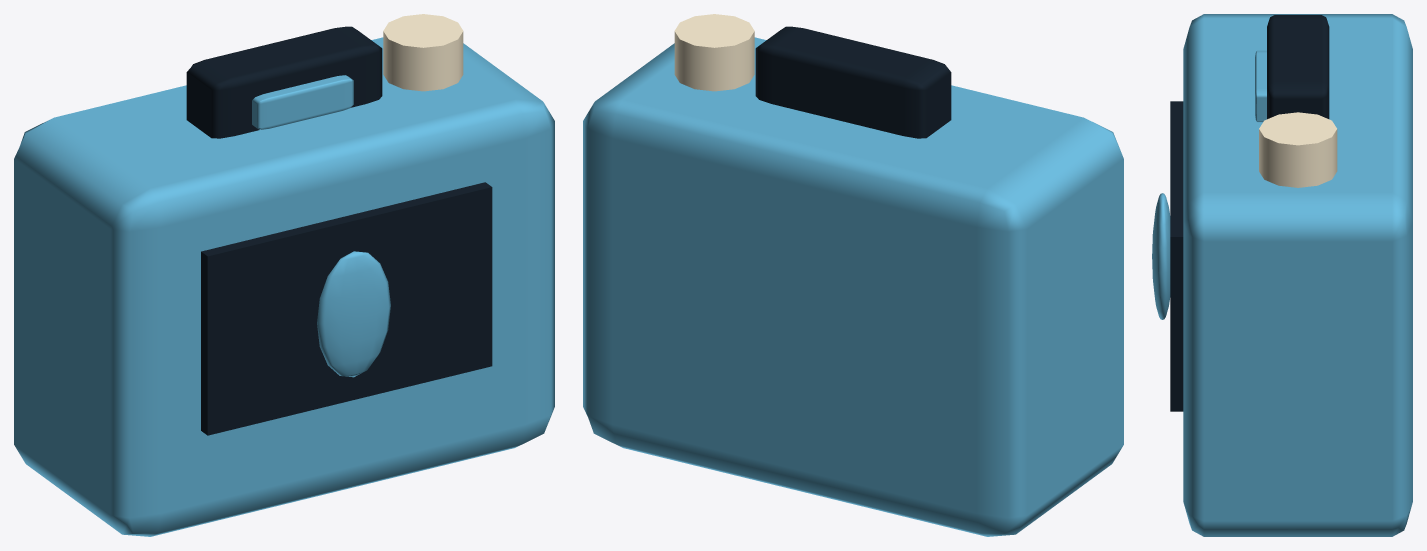
Rendered from item-water.glb.
3 views of the same model, side by side, from view 1: azimuth 30°, elevation 25°; view 2: azimuth 150°, elevation 25°; view 3: azimuth 270°, elevation 25° (orthographic). The views are drawn at different scales.
Visible parts, largest first — view 1: package, label, carry-handle, drop, water-cap, handle-opening; view 2: package, carry-handle, water-cap; view 3: package, carry-handle, water-cap, label, drop, handle-opening.
Part boxes in pixels (x1=…): package: x1=14, y1=37, x2=554, y2=536; label: x1=201, y1=182, x2=492, y2=435; carry-handle: x1=186, y1=26, x2=382, y2=138; drop: x1=317, y1=251, x2=390, y2=377; water-cap: x1=383, y1=14, x2=463, y2=91; handle-opening: x1=252, y1=75, x2=353, y2=129; package: x1=583, y1=37, x2=1123, y2=536; carry-handle: x1=755, y1=26, x2=951, y2=138; water-cap: x1=674, y1=14, x2=754, y2=91; package: x1=1183, y1=14, x2=1412, y2=536; carry-handle: x1=1267, y1=15, x2=1329, y2=119; water-cap: x1=1259, y1=112, x2=1337, y2=187; label: x1=1170, y1=101, x2=1183, y2=411; drop: x1=1152, y1=193, x2=1170, y2=319; handle-opening: x1=1255, y1=50, x2=1266, y2=122.
Size of the model in its own units: 0.96 by 0.835 by 0.5.
